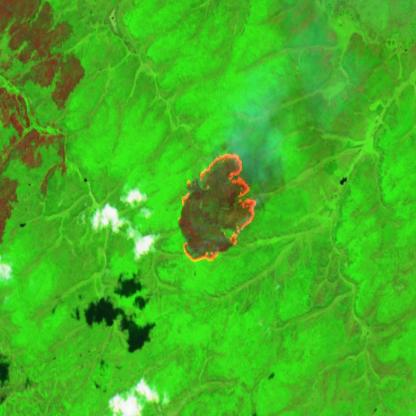fire: (175, 150, 259, 265)
